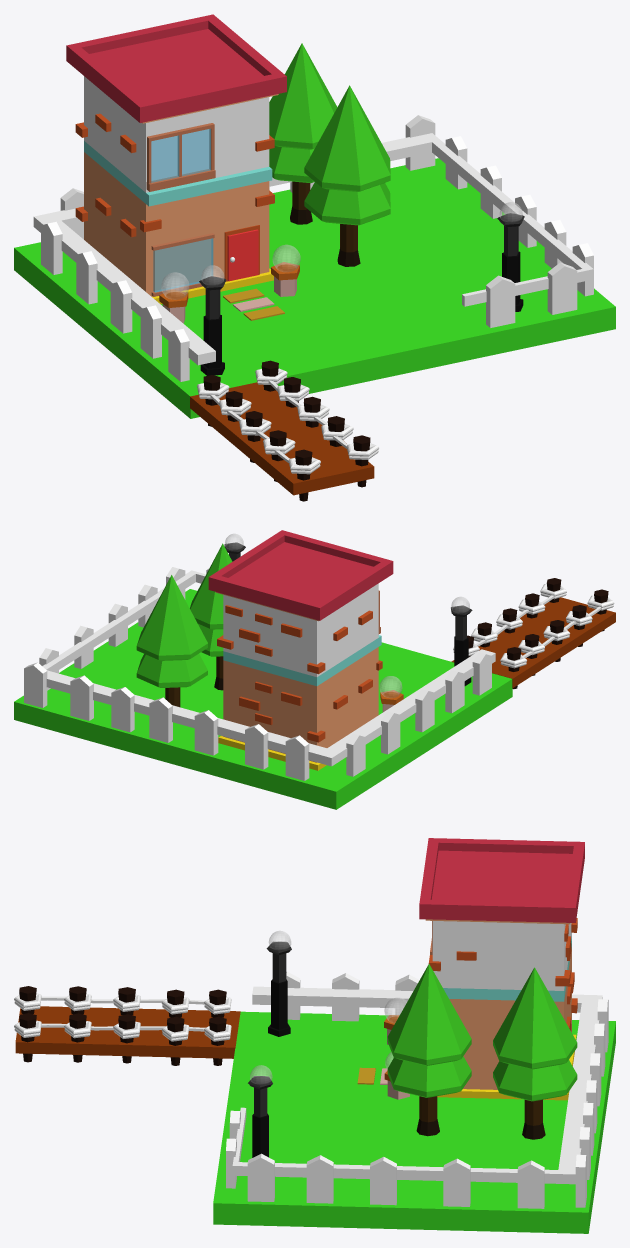
Rendered from low_poly_house.obj.
3 renders of one model, top to bottom at view 1: azimuth 30°, elevation 25°; view 2: azimuth 150°, elevation 25°; view 3: azimuth 270°, elevation 25°, orthographic. The views are drawn at different scales.
Parts seen in each view (by area): view 1: ground_green_0, house_pink_0, house_Material.002_0, house_white_0, fence_white_0, tree_pastelgreen_0, bridge_Material.015_0, tree.001_pastelgreen_0, house_Material.009_0, house_Material.003_0, house_brickbeige_0, house_beige_0 (+14 smaller); view 2: ground_green_0, house_pink_0, house_Material.002_0, house_white_0, fence_white_0, tree.001_pastelgreen_0, bridge_Material.015_0, house_beige_0, tree_pastelgreen_0, house_Material.003_0, block.007_white_0, block_white_0 (+16 smaller); view 3: ground_green_0, house_pink_0, fence_white_0, house_white_0, tree_pastelgreen_0, tree.001_pastelgreen_0, bridge_Material.015_0, house_Material.002_0, block.012_white_0, block.013_white_0, block.015_white_0, block.016_white_0 (+10 smaller).
Boxes of the visible parts, x1=… form: ground_green_0: x1=14, y1=158, x2=615, y2=418; house_pink_0: x1=66, y1=14, x2=286, y2=122; house_Material.002_0: x1=84, y1=94, x2=278, y2=296; house_white_0: x1=84, y1=76, x2=269, y2=262; fence_white_0: x1=33, y1=133, x2=593, y2=365; tree_pastelgreen_0: x1=304, y1=85, x2=390, y2=225; bridge_Material.015_0: x1=190, y1=382, x2=374, y2=495; tree.001_pastelgreen_0: x1=269, y1=43, x2=337, y2=183; house_Material.009_0: x1=151, y1=128, x2=213, y2=292; house_Material.003_0: x1=84, y1=141, x2=272, y2=206; house_brickbeige_0: x1=146, y1=123, x2=215, y2=296; house_beige_0: x1=75, y1=113, x2=274, y2=281; ground_green_0: x1=14, y1=589, x2=512, y2=809; house_pink_0: x1=208, y1=530, x2=393, y2=620; house_Material.002_0: x1=215, y1=592, x2=378, y2=762; house_white_0: x1=223, y1=583, x2=378, y2=676; fence_white_0: x1=42, y1=570, x2=495, y2=766; tree.001_pastelgreen_0: x1=136, y1=575, x2=207, y2=687; bridge_Material.015_0: x1=451, y1=597, x2=615, y2=688; house_beige_0: x1=217, y1=605, x2=382, y2=742; tree_pastelgreen_0: x1=190, y1=543, x2=232, y2=656; house_Material.003_0: x1=223, y1=635, x2=381, y2=686; block.007_white_0: x1=194, y1=710, x2=218, y2=755; block_white_0: x1=285, y1=735, x2=309, y2=780; ground_green_0: x1=213, y1=1011, x2=615, y2=1233; house_pink_0: x1=419, y1=838, x2=584, y2=922; fence_white_0: x1=232, y1=986, x2=602, y2=1184; house_white_0: x1=432, y1=921, x2=571, y2=990; tree_pastelgreen_0: x1=387, y1=964, x2=471, y2=1097; tree.001_pastelgreen_0: x1=493, y1=967, x2=577, y2=1101; bridge_Material.015_0: x1=15, y1=1006, x2=240, y2=1058; house_Material.002_0: x1=425, y1=919, x2=571, y2=1089; block.012_white_0: x1=517, y1=1160, x2=544, y2=1208; block.013_white_0: x1=443, y1=1158, x2=470, y2=1206; block.015_white_0: x1=306, y1=1155, x2=333, y2=1203; block.016_white_0: x1=247, y1=1153, x2=274, y2=1201.
Size of the model in its own units: 6.75 by 3.3 by 8.3.
